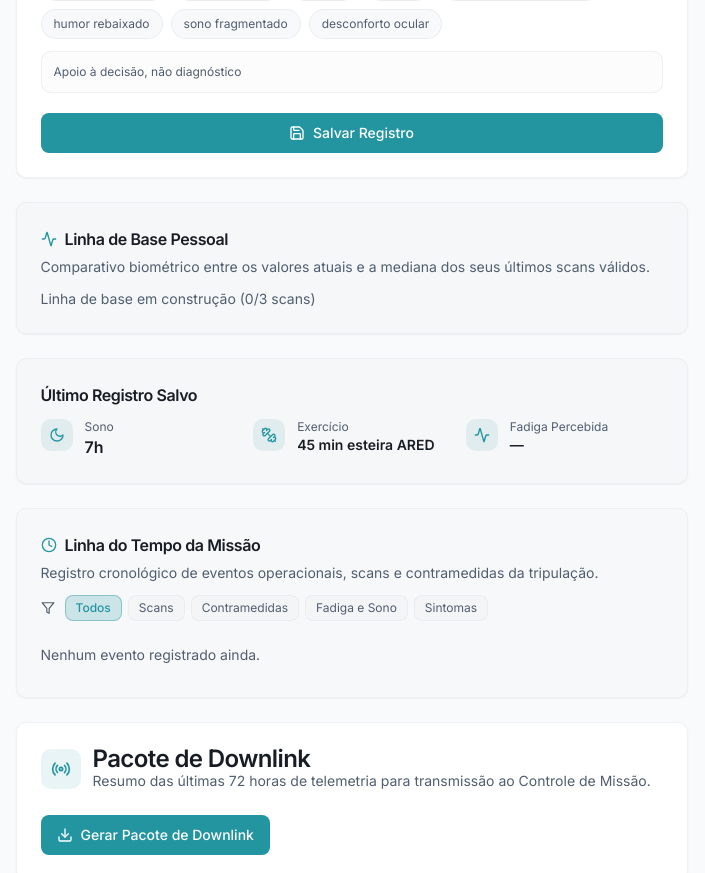
it: MissionLog (AAA Pattern) › 8. Pacote de Downlink (72h) - Modo Autônomo vs Online (AAA) › renderiza o botão "Gerar Pacote de Downlink" e em modo autônomo atualiza o rótulo para "Pacote salvo localmente (simulação de uplink — nenhum envio real)"
(page scrolled)
Click the button "Gerar Pacote de Downlink": (155, 835) [40,815,270,855]
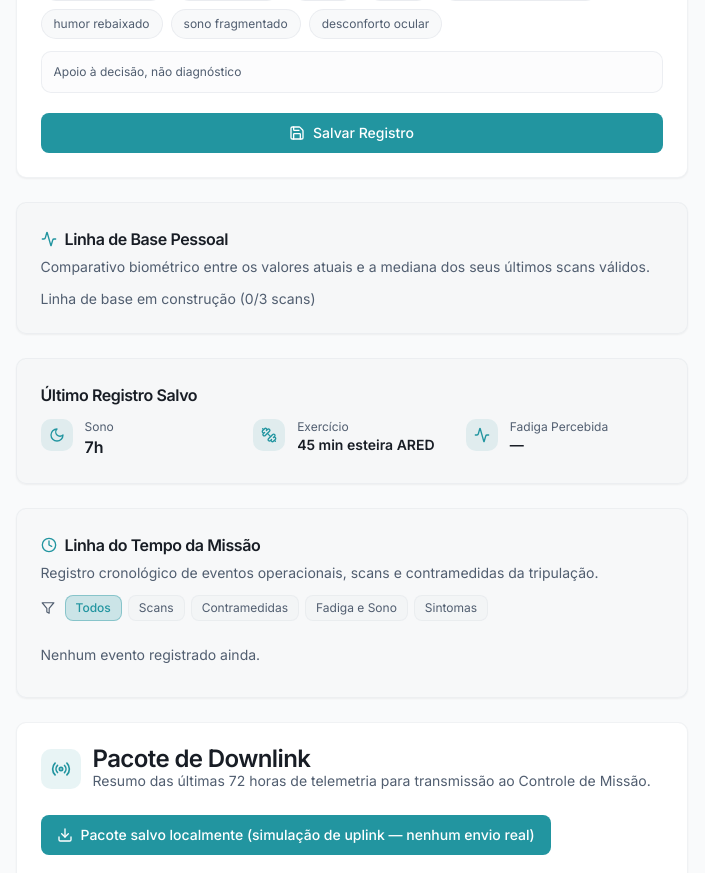
Result: the button named "Gerar Pacote de Downlink" reads "Pacote salvo localmente (simulação de uplink — nenhum envio real)" at [40,815,551,855]
